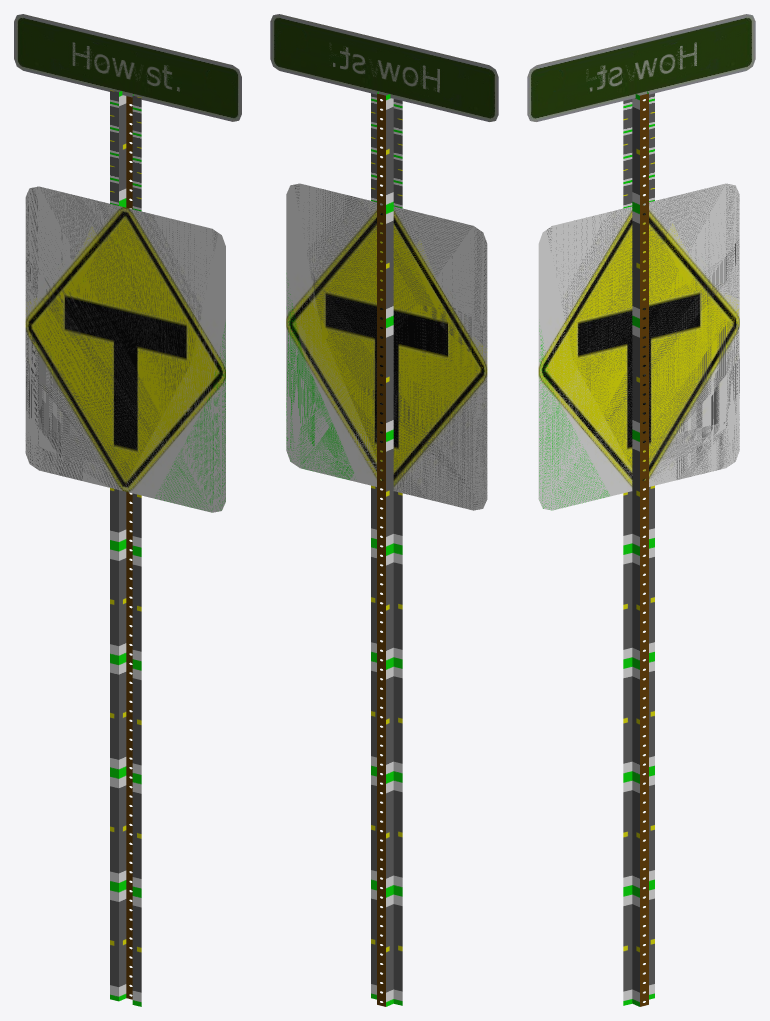
Rendered from karaman-sign.dae.
3 renders of one model, left to right at view 1: azimuth 30°, elevation 25°; view 2: azimuth 210°, elevation 25°; view 3: azimuth 270°, elevation 25°, orthographic.
Visible parts, largest first — view 1: skpdd67 (×2), Component6 (×2), Component3 (×2), Component4, Component1; view 2: skpdd67 (×2), Component1, Component4, Component3 (×2), Component6 (×2); view 3: skpdd67 (×2), Component1, Component7, Component6 (×2), Component3 (×2).
Part boxes in pixels (x1,y1,x2,y2): skpdd67 (×2): (14, 14, 241, 512); Component6 (×2): (132, 95, 141, 1006); Component3 (×2): (110, 90, 118, 1001); Component4: (119, 91, 126, 1001); Component1: (126, 96, 132, 999); skpdd67 (×2): (270, 14, 498, 510); Component1: (377, 93, 385, 1006); Component4: (386, 94, 393, 1006); Component3 (×2): (393, 99, 402, 1005); Component6 (×2): (371, 93, 376, 999); skpdd67 (×2): (527, 14, 755, 510); Component1: (640, 93, 648, 1006); Component7: (632, 94, 639, 1006); Component6 (×2): (623, 99, 632, 1005); Component3 (×2): (649, 93, 654, 999).
Size of the model in its own units: 12.58 by 21.79 by 102.
